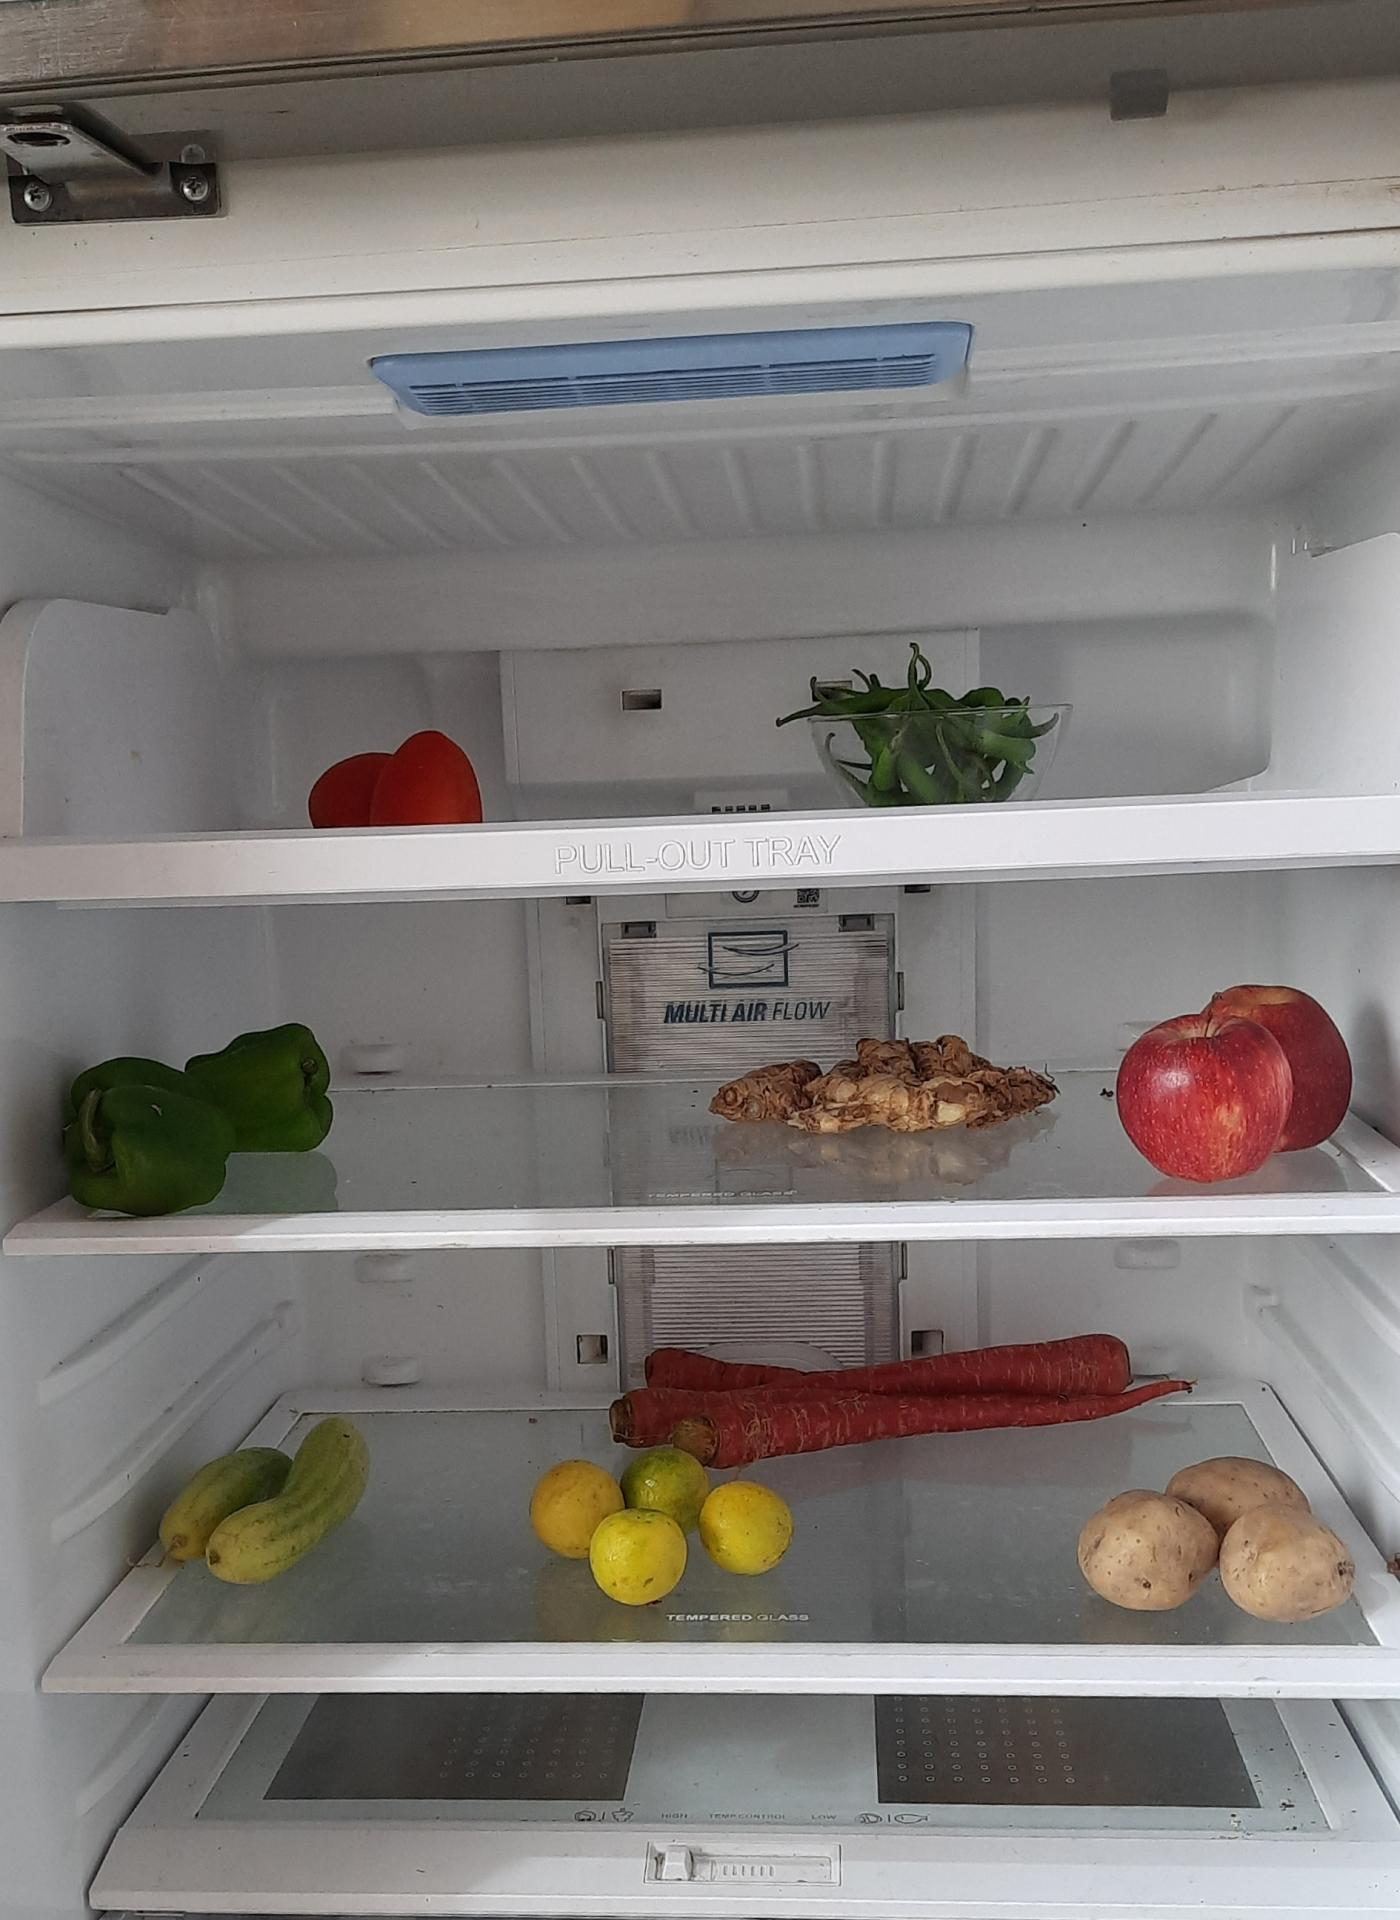apple: (1117, 976, 1355, 1187)
capsicum: (67, 1039, 341, 1224)
carrots: (617, 1321, 1206, 1480)
chillies: (801, 640, 1056, 795)
cucumber: (148, 1410, 376, 1586)
ginger: (708, 1038, 1059, 1140)
lemon: (520, 1436, 787, 1610)
potato: (1075, 1459, 1363, 1632)
tomato: (313, 720, 489, 823)
